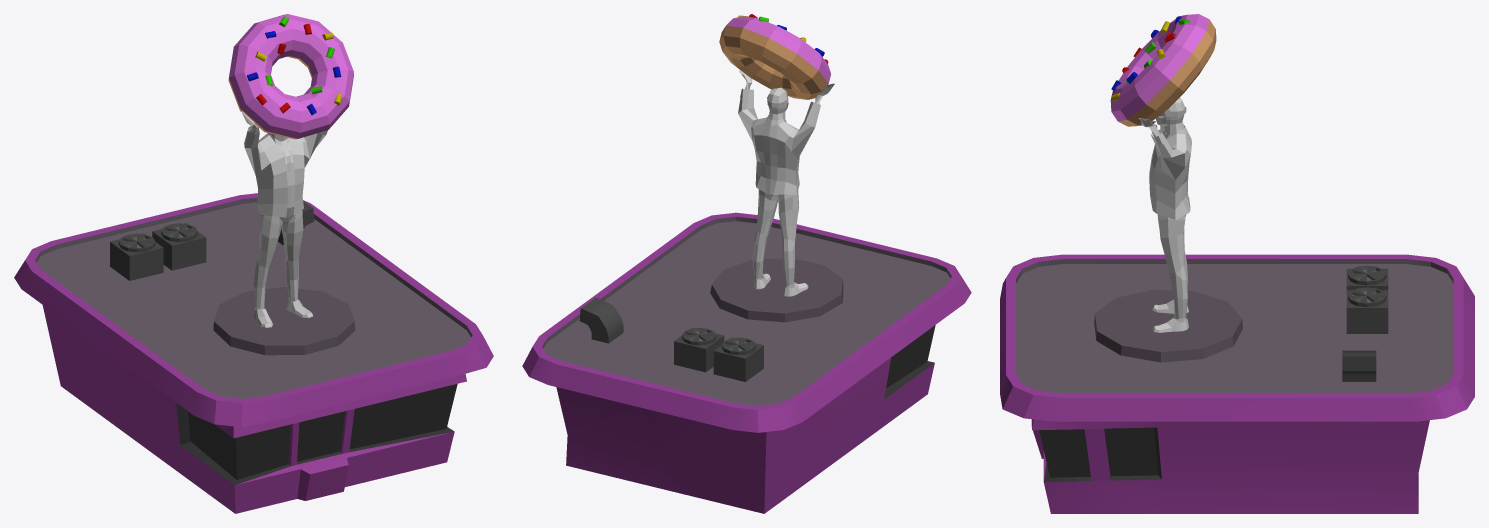
File: Envi_Rest_004_Doughnut.fbx
The picture shows the model from 3 angles, left to right: view 1: azimuth 30°, elevation 25°; view 2: azimuth 150°, elevation 25°; view 3: azimuth 270°, elevation 25°; orthographic projection. The views are drawn at different scales.
Visible parts, largest first — view 1: Doughnut_Building, pTorus1, Mafia, Vent_1_pCube8, Vent_1_pCube7; view 2: Doughnut_Building, Mafia, pTorus1, Vent_1_pCube8, Vent_1_pCube7, Duct; view 3: Doughnut_Building, Mafia, pTorus1, Vent_1_pCube7, Duct, Vent_1_pCube8.
Part boxes in pixels (x1,y1,x2,y2): Doughnut_Building: (14, 193, 493, 513); pTorus1: (228, 14, 353, 139); Mafia: (242, 111, 327, 327); Vent_1_pCube8: (110, 233, 163, 280); Vent_1_pCube7: (152, 223, 206, 270); Doughnut_Building: (522, 212, 971, 513); Mafia: (738, 70, 834, 296); pTorus1: (719, 16, 830, 99); Vent_1_pCube8: (713, 337, 763, 381); Vent_1_pCube7: (674, 328, 724, 372); Duct: (579, 297, 623, 343); Doughnut_Building: (1000, 254, 1474, 513); Mafia: (1138, 97, 1191, 332); pTorus1: (1110, 14, 1216, 126); Vent_1_pCube7: (1346, 287, 1388, 333); Duct: (1342, 350, 1376, 381); Vent_1_pCube8: (1346, 265, 1388, 290).
Size of the model in its own units: 854 by 1180 by 1142.
